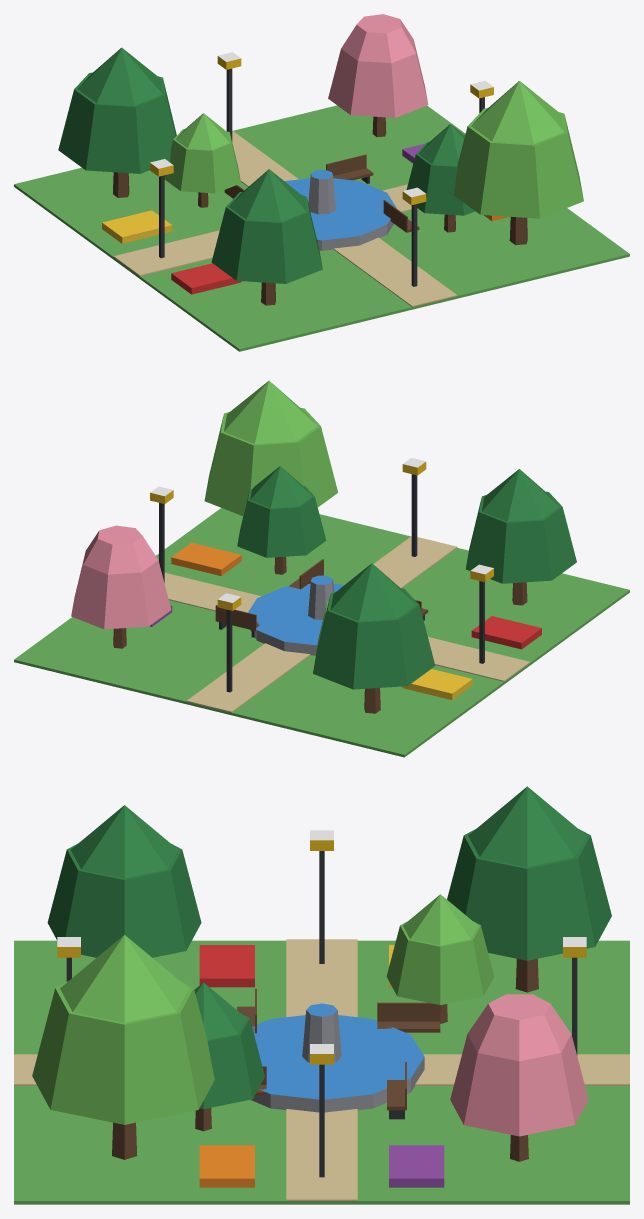
The model's file is Svc_park.fbx.
The picture shows the model from 3 angles, top to bottom: view 1: azimuth 30°, elevation 25°; view 2: azimuth 150°, elevation 25°; view 3: azimuth 270°, elevation 25°; orthographic projection. The views are drawn at different scales.
Parts seen in each view (by area): view 1: Svc_park_LOD0; view 2: Svc_park_LOD0; view 3: Svc_park_LOD0.
Part boxes in pixels (<box>): Svc_park_LOD0: <box>14,14,629,351</box>; Svc_park_LOD0: <box>14,380,629,757</box>; Svc_park_LOD0: <box>14,786,629,1204</box>.
Size of what is drawn, in the model's own units: 1560 by 624 by 1560.
Materials: 1 (1 with a texture image).
